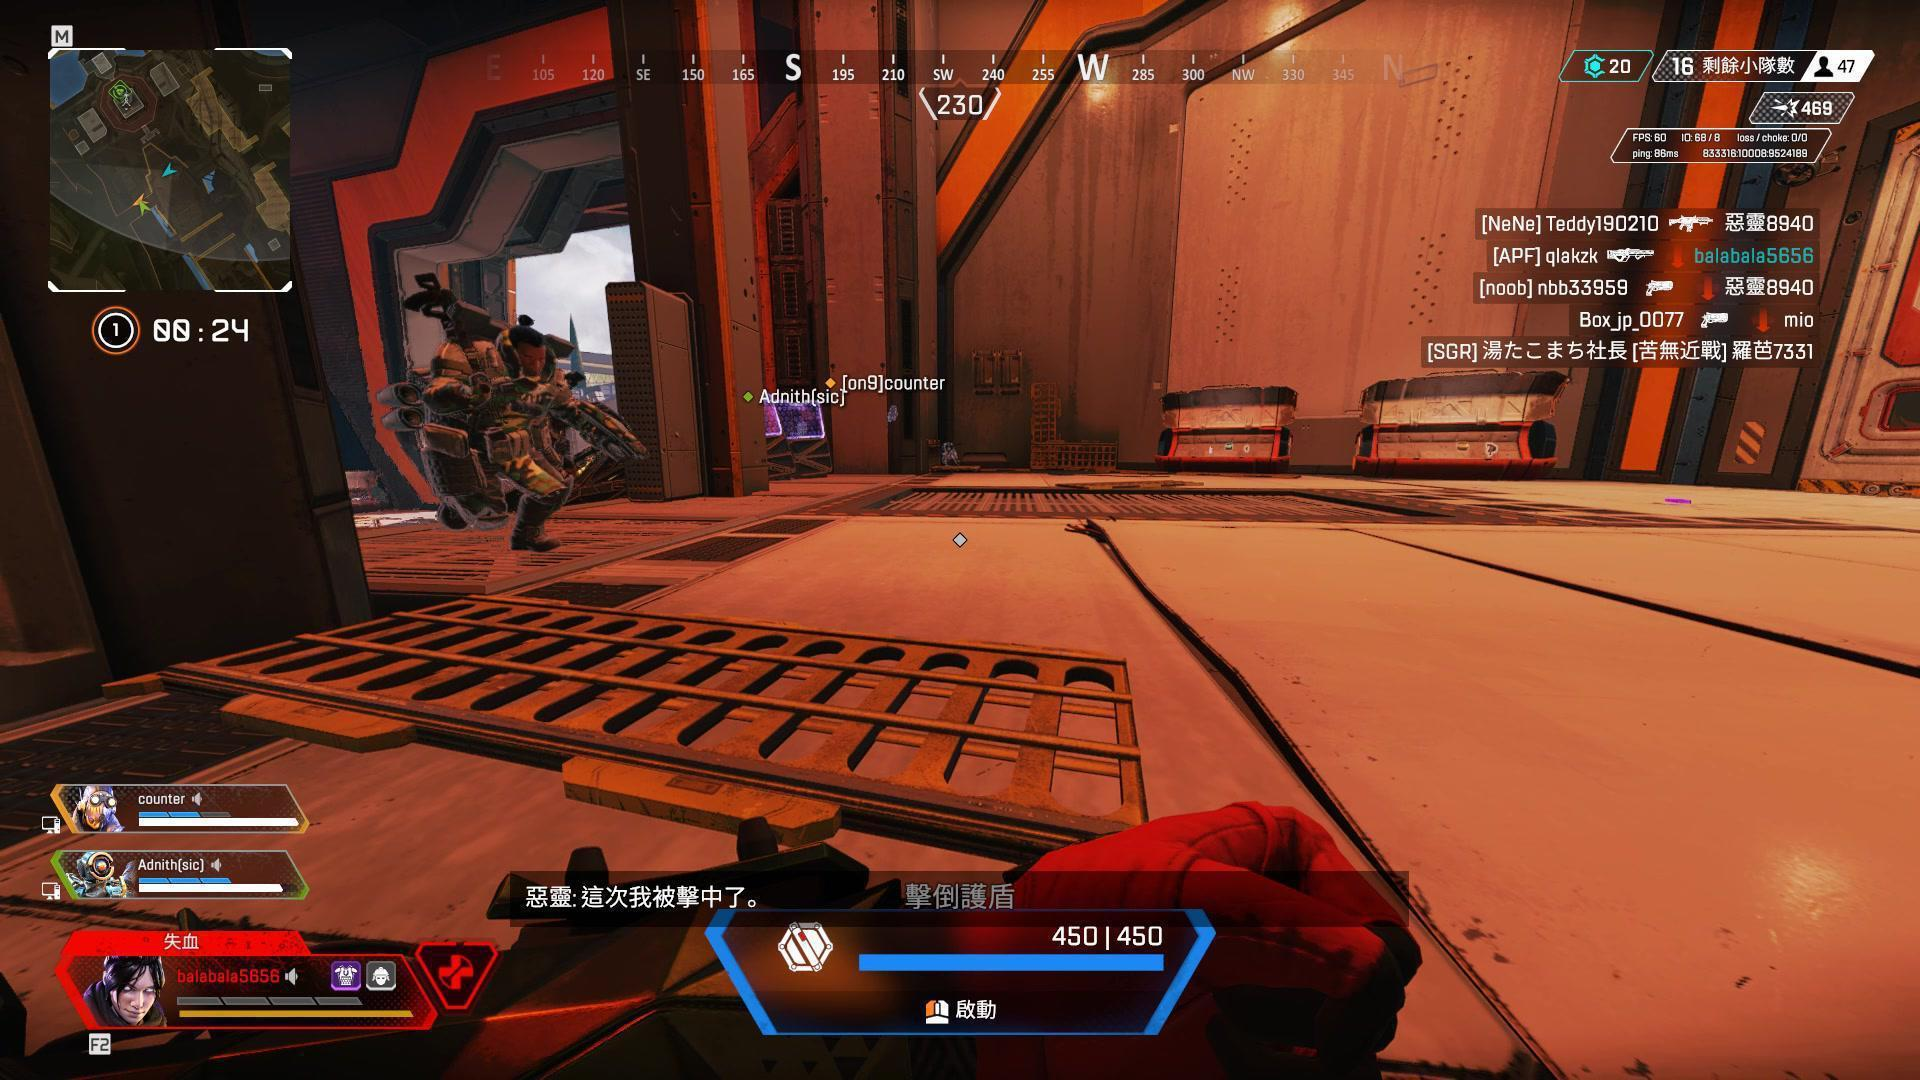avatar: (377, 314, 649, 558)
